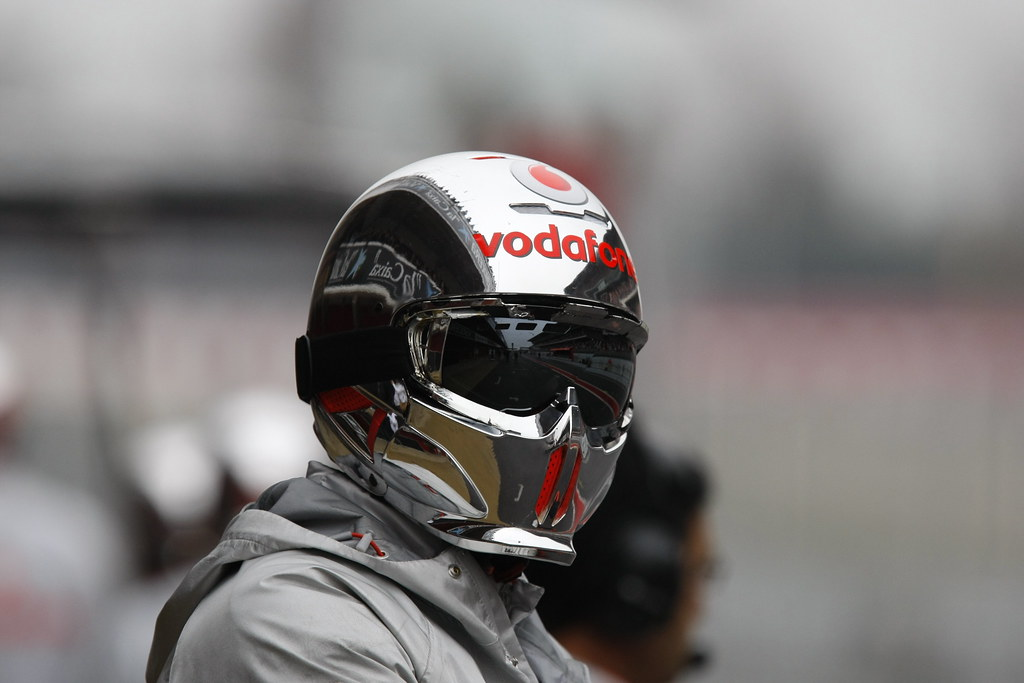helmet: (312, 148, 679, 551)
